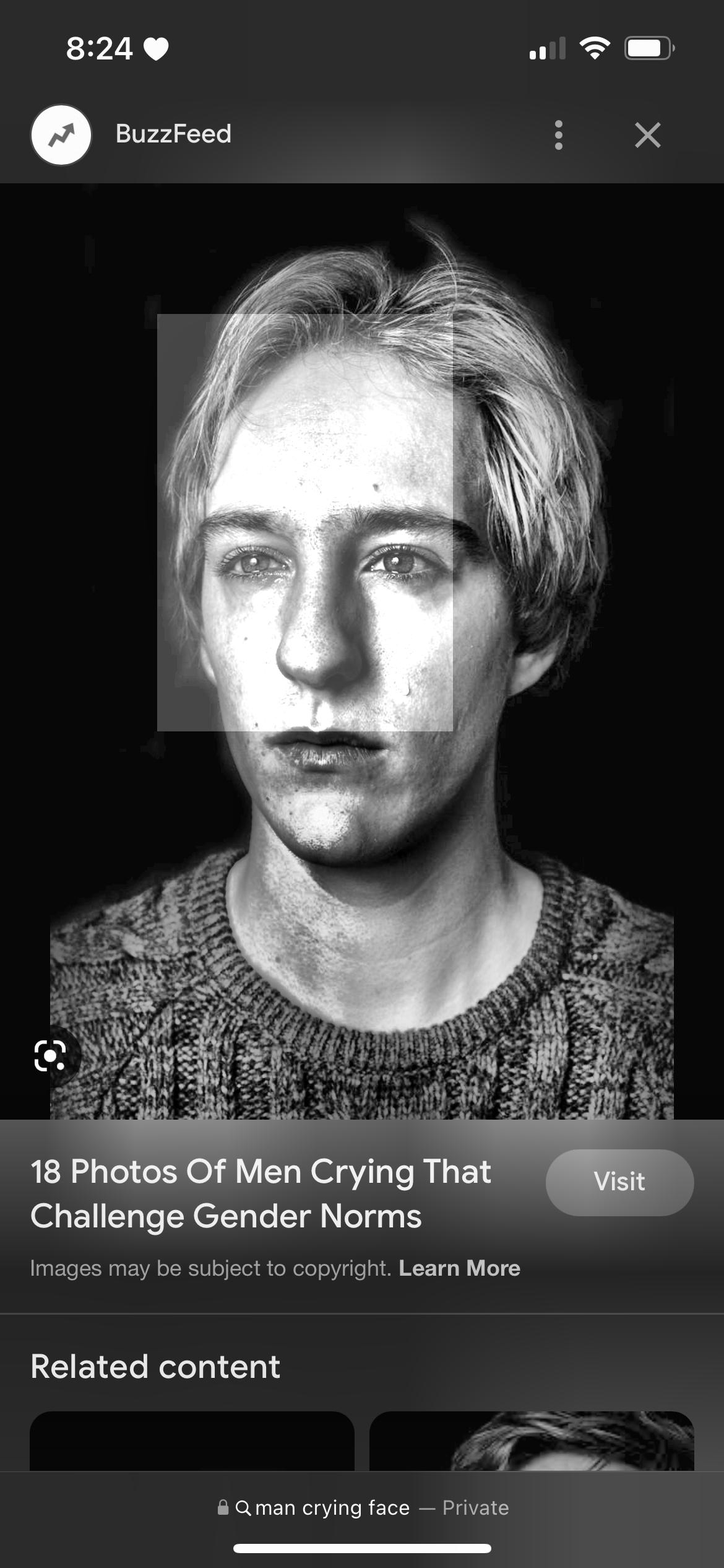sad: (194, 388, 560, 904)
